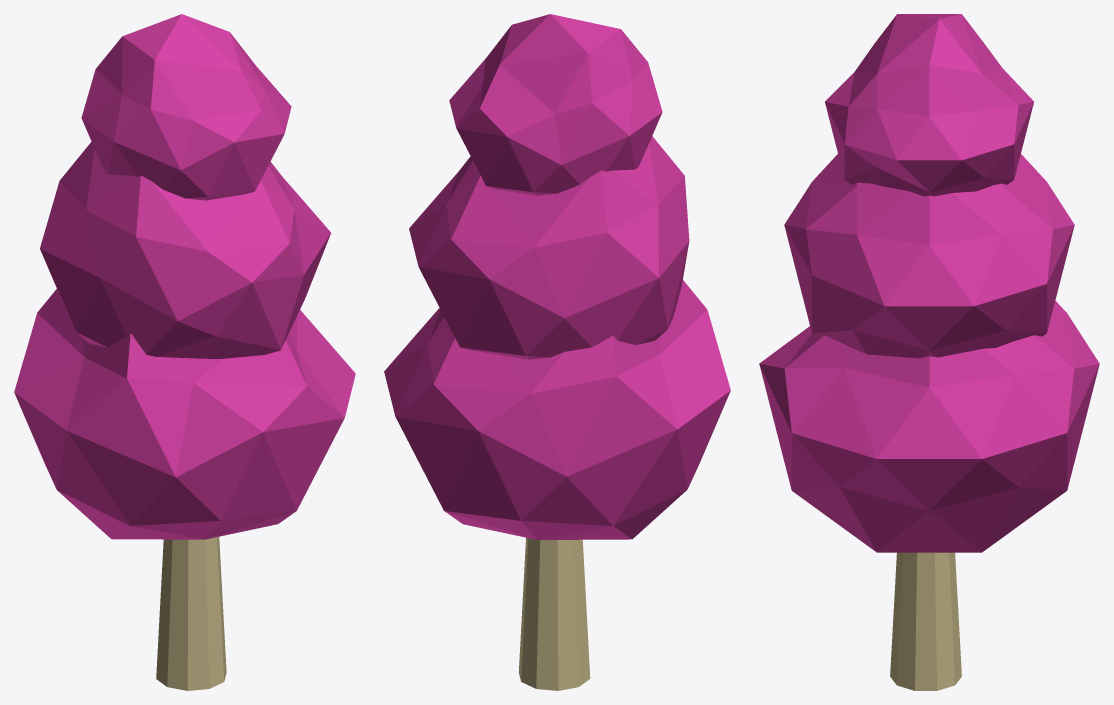
Rendered from Arvore_Rosa.fbx.
3 views of the same model, side by side, from view 1: azimuth 30°, elevation 25°; view 2: azimuth 150°, elevation 25°; view 3: azimuth 270°, elevation 25° (orthographic).
Parts seen in each view (by area): view 1: polySurface1; view 2: polySurface1; view 3: polySurface1.
Part boxes in pixels (x1,y1,x2,y2): polySurface1: (14, 14, 355, 690); polySurface1: (384, 14, 730, 690); polySurface1: (759, 14, 1099, 690).
Size of the model in its own units: 20.89 by 45.41 by 21.36.
